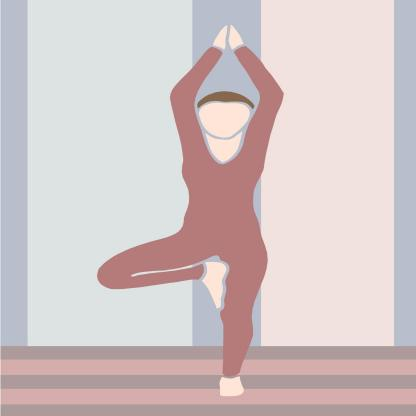tree: (88, 22, 300, 401)
